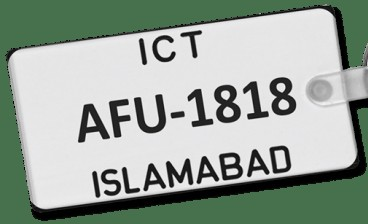1: (184, 87, 214, 128), (242, 78, 269, 121)
8: (268, 75, 299, 117), (212, 82, 241, 124)
A: (75, 101, 110, 143), (195, 153, 220, 184), (143, 159, 166, 192), (246, 147, 270, 177)
B: (217, 150, 245, 182)
C: (151, 34, 178, 63)
D: (267, 145, 293, 174)
F: (106, 96, 132, 140)
I: (135, 36, 150, 66), (89, 169, 102, 199)
L: (120, 164, 142, 194)
M: (165, 155, 194, 188)
S: (99, 166, 121, 197)
T: (178, 30, 205, 60)
U: (132, 93, 168, 134)
